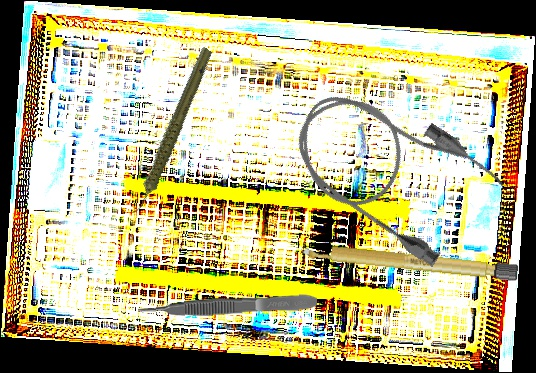Cannula: (275, 64, 510, 275)
Handpiece: (97, 45, 243, 217)
Scalpel Handle: (297, 240, 521, 282)
Tissue Forceps: (137, 292, 318, 319)
